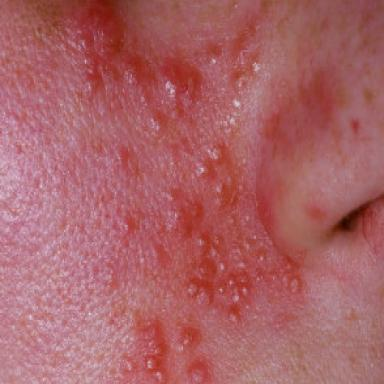acne: (73, 2, 124, 85), (162, 58, 202, 107), (237, 131, 263, 187), (167, 202, 203, 235), (146, 323, 163, 383), (127, 55, 149, 84), (187, 358, 212, 383), (187, 283, 209, 305), (179, 327, 201, 348), (290, 277, 301, 297), (233, 71, 244, 87), (196, 163, 208, 177), (121, 356, 132, 371), (198, 260, 207, 278), (207, 148, 220, 160), (197, 232, 207, 246), (119, 219, 130, 231), (209, 54, 220, 66), (150, 118, 160, 131), (229, 313, 238, 323), (233, 99, 241, 108), (253, 62, 260, 72), (233, 293, 240, 303), (165, 194, 175, 201), (226, 175, 232, 185), (211, 248, 217, 257), (229, 117, 235, 125), (219, 263, 225, 271), (229, 278, 235, 286), (259, 252, 264, 261), (215, 186, 221, 193), (238, 262, 245, 268), (228, 217, 234, 224), (242, 287, 247, 295), (245, 242, 250, 249), (215, 197, 220, 204), (245, 214, 250, 220), (240, 277, 245, 283), (239, 184, 243, 191), (219, 287, 223, 293), (253, 234, 257, 239)
